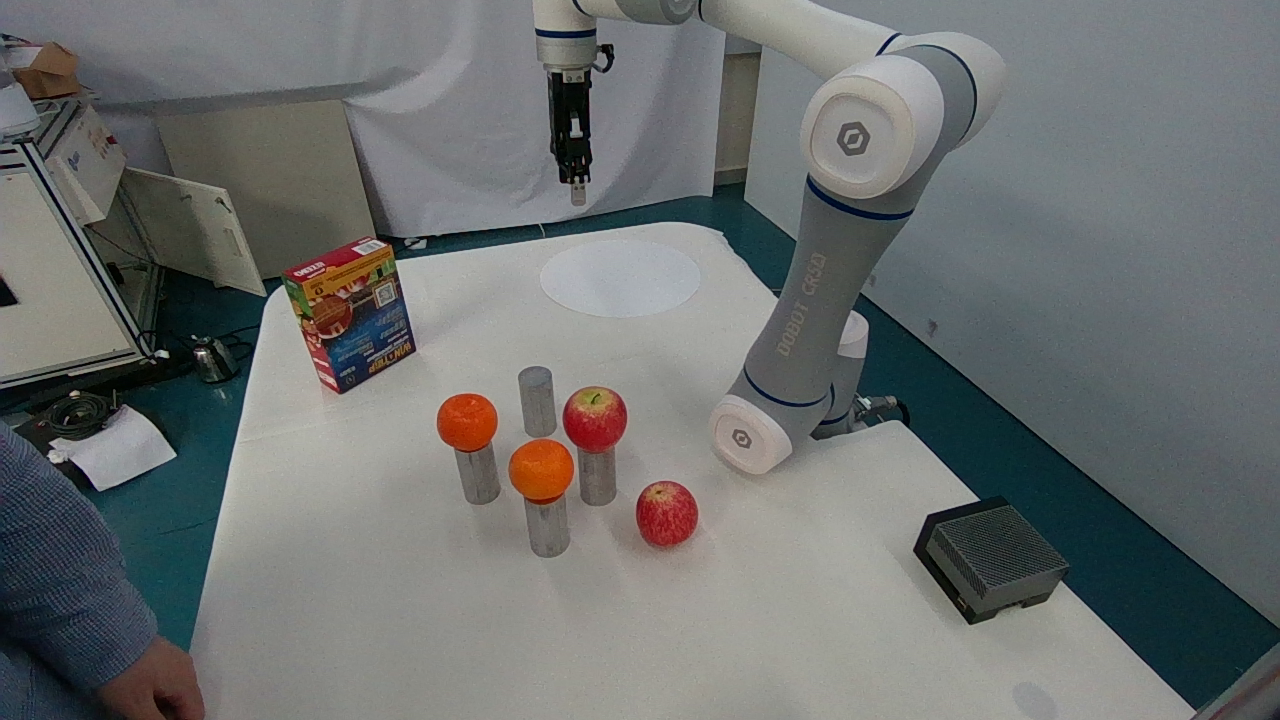apple: (551, 374, 641, 456), (628, 468, 708, 555)
metal rod: (508, 483, 592, 568), (504, 355, 564, 443), (441, 442, 508, 514)
orange: (424, 376, 510, 455), (501, 432, 585, 506)
